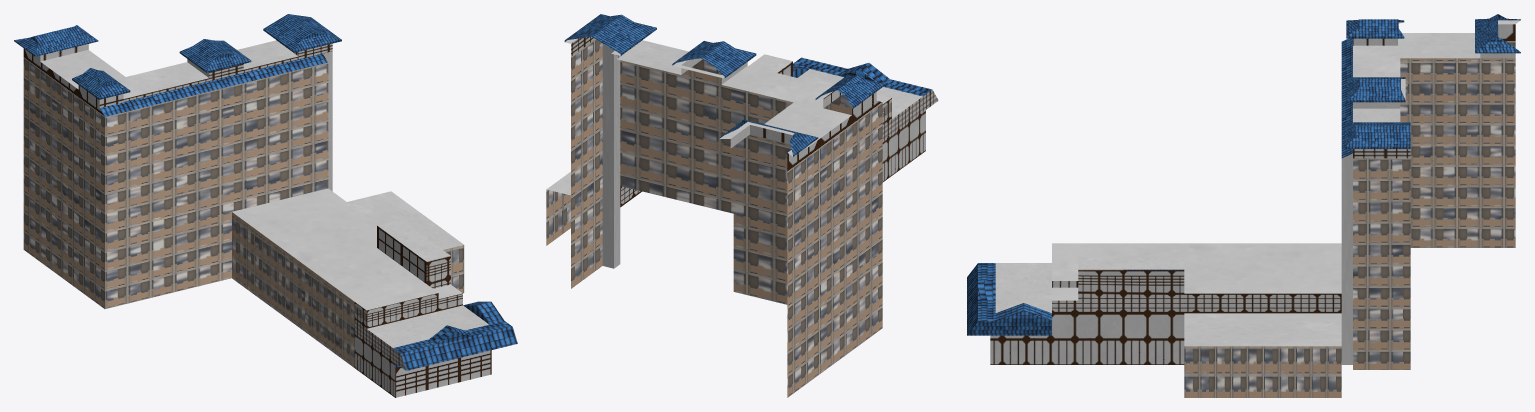
Rendered from imperial_palace.dae.
The picture shows the model from 3 angles, left to right: view 1: azimuth 30°, elevation 25°; view 2: azimuth 150°, elevation 25°; view 3: azimuth 270°, elevation 25°; orthographic projection. The views are drawn at different scales.
Parts seen in each view (by area): view 1: imperial palace; view 2: imperial palace; view 3: imperial palace.
Boxes of the visible parts, <box> form: imperial palace: <box>14,14,517,397</box>; imperial palace: <box>546,14,938,397</box>; imperial palace: <box>967,14,1520,397</box>.
Bounding box in the file's own units: 7.45 × 11.35 × 5.32.
Materials: 1 (1 with a texture image).
